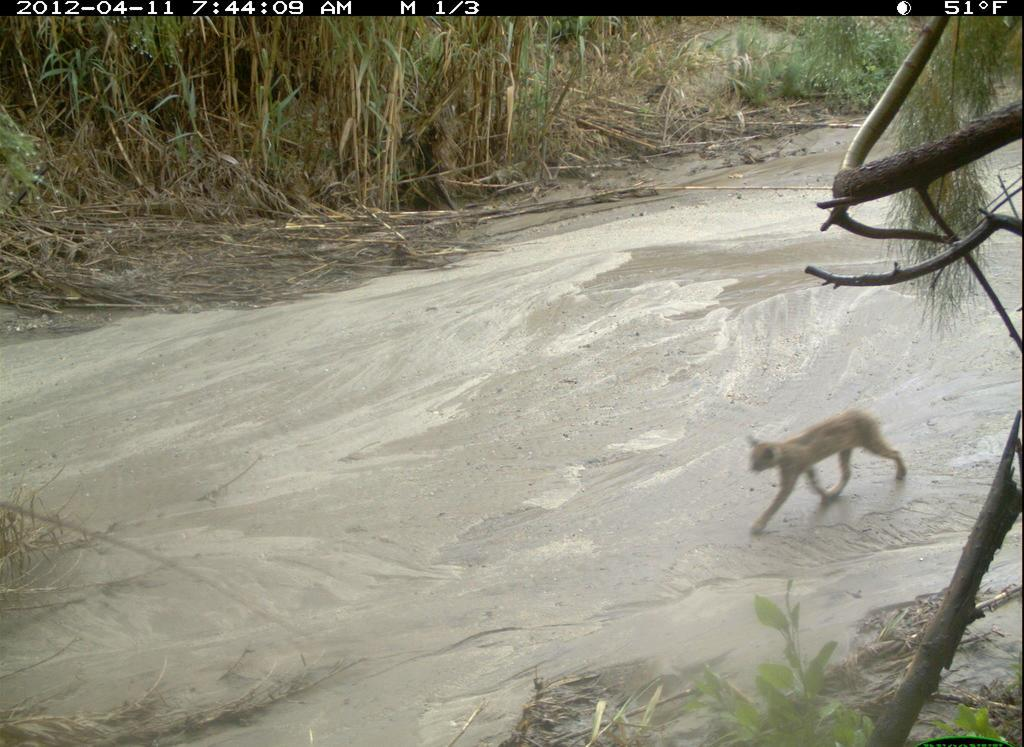bobcat: (742, 404, 927, 537)
